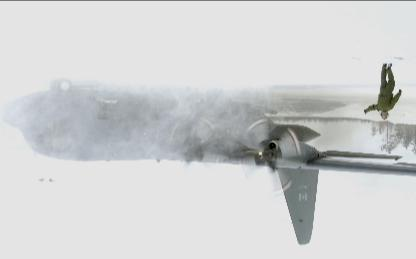Be200: (0, 77, 415, 245)
